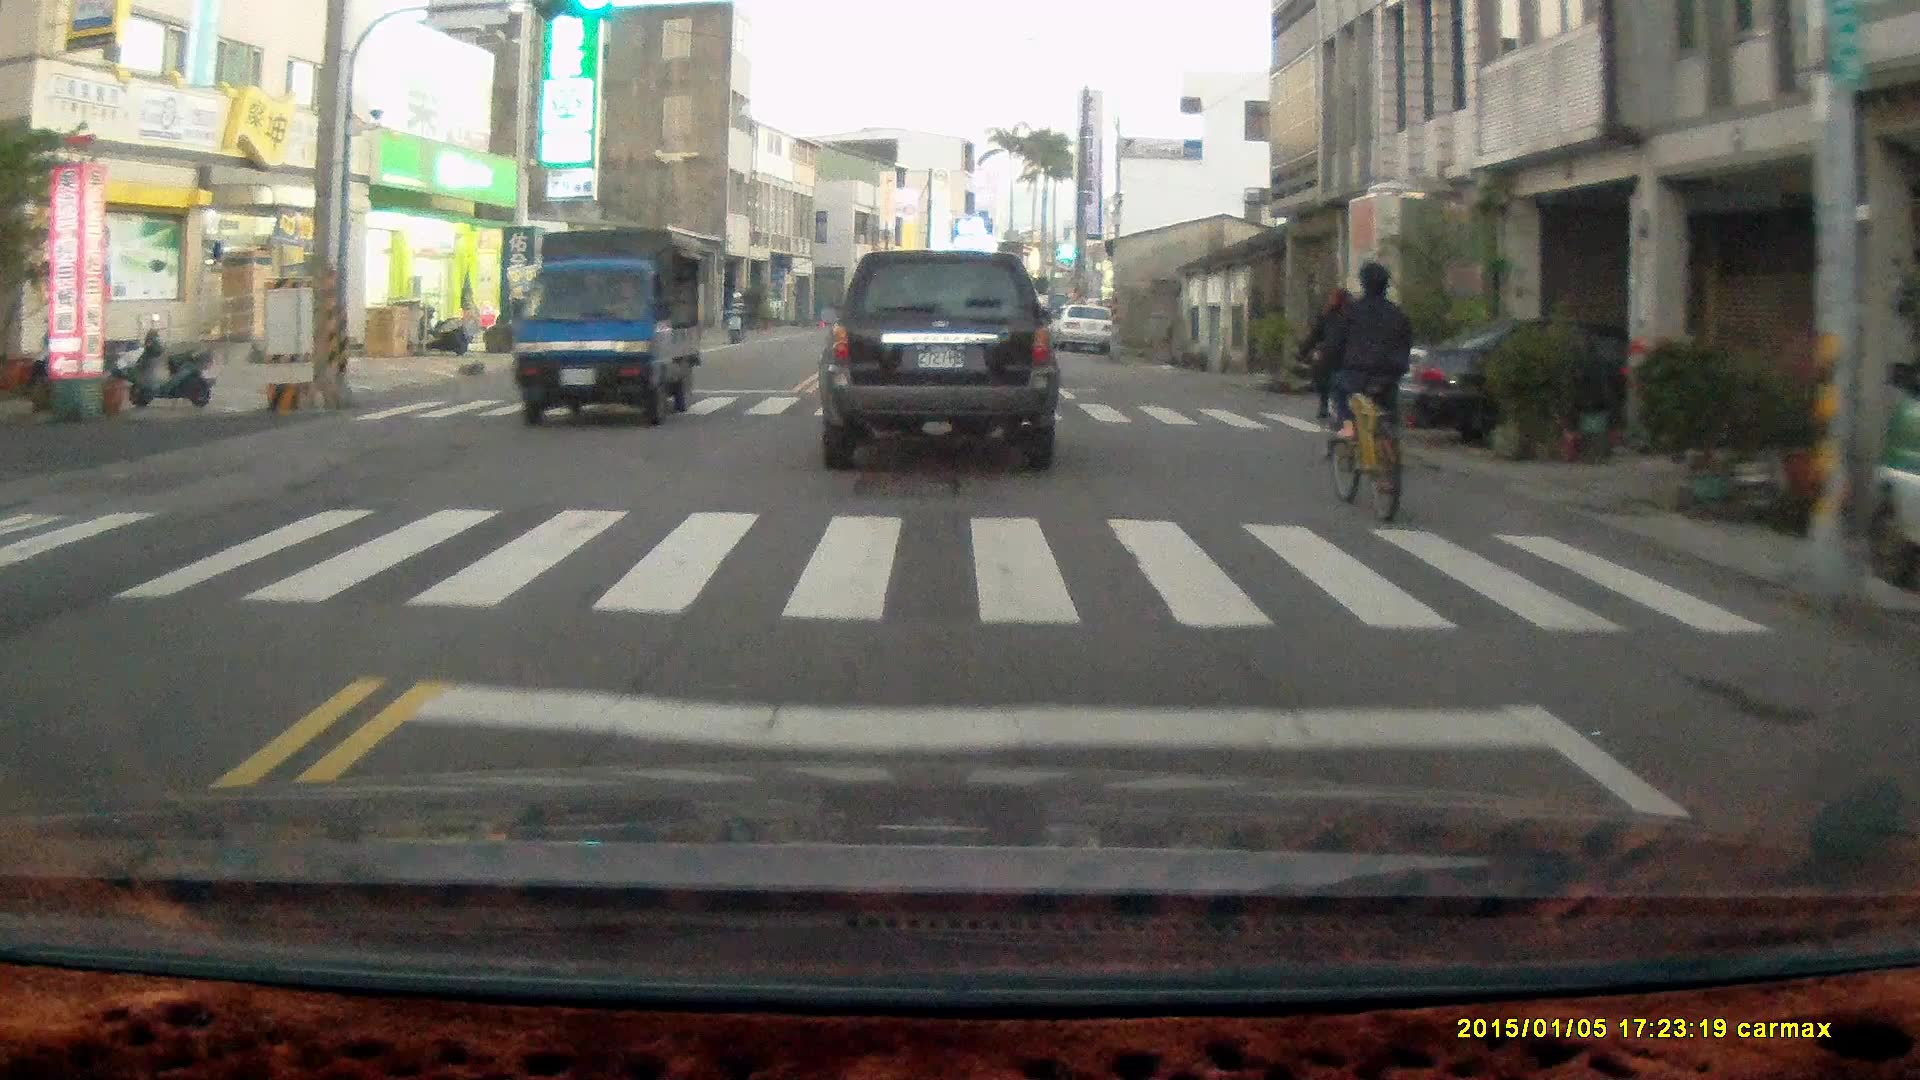rider: (1314, 259, 1416, 523), (1303, 276, 1371, 462), (722, 289, 746, 345)
vehicle: (817, 248, 1062, 471), (1395, 319, 1775, 461), (511, 225, 710, 427), (1057, 304, 1118, 354)
